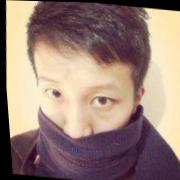WRONG: (30, 66, 137, 175)
